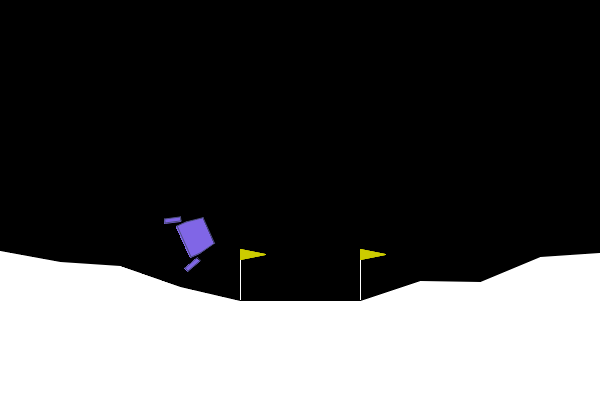lander: (161, 203, 222, 274)
